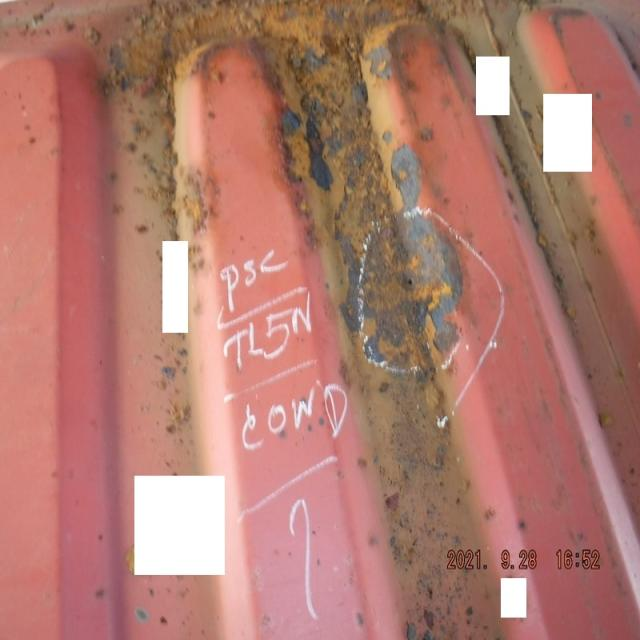rust: (109, 1, 430, 219), (336, 200, 465, 367)
